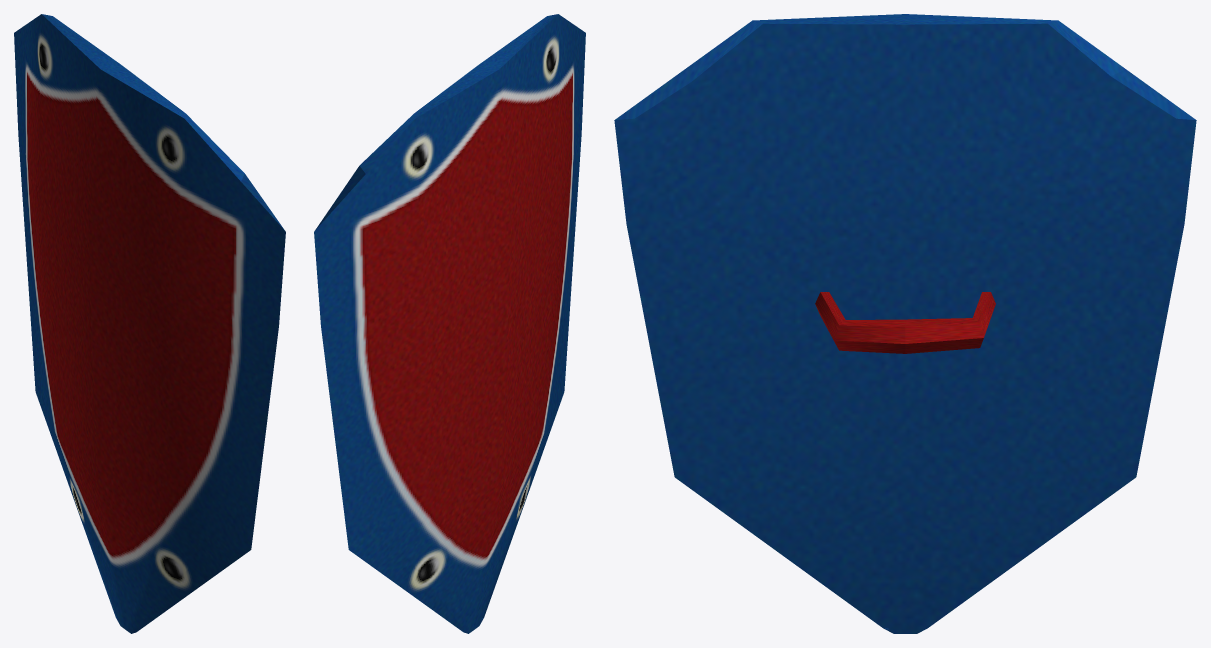
Rendered from Shield_1.fbx.
3 renders of one model, left to right at view 1: azimuth 30°, elevation 25°; view 2: azimuth 150°, elevation 25°; view 3: azimuth 270°, elevation 25°, orthographic. The views are drawn at different scales.
Parts seen in each view (by area): view 1: Shield_1; view 2: Shield_1; view 3: Shield_1.
Part boxes in pixels (bbox=[...]): Shield_1: bbox=[14, 14, 285, 633]; Shield_1: bbox=[314, 14, 585, 633]; Shield_1: bbox=[614, 14, 1196, 633].
Size of the model in its own units: 0.9689 by 3.9 by 3.39.
1 material, 1 textured.
